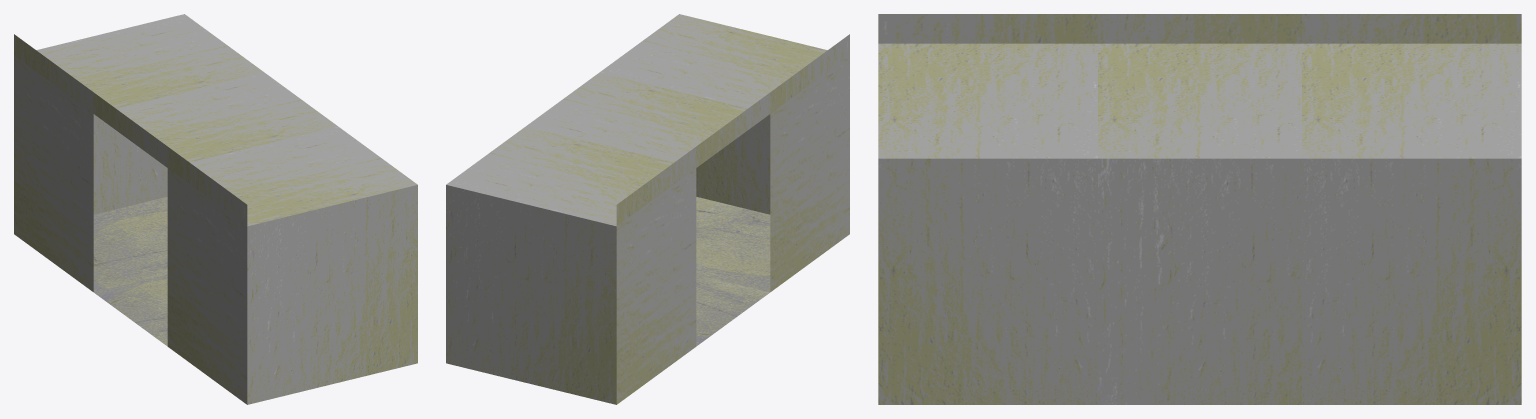
File: Outside.fbx
3 views of the same model, side by side, from view 1: azimuth 30°, elevation 25°; view 2: azimuth 150°, elevation 25°; view 3: azimuth 270°, elevation 25° (orthographic). The views are drawn at different scales.
Visible parts, largest first — view 1: Inside; view 2: Inside; view 3: Inside.
Boxes of the visible parts, x1,y1,x2,y2 form: Inside: [14, 14, 417, 404]; Inside: [446, 14, 849, 404]; Inside: [878, 14, 1521, 404].
Bounding box in the file's own units: 2 × 2.24 × 4.74.
